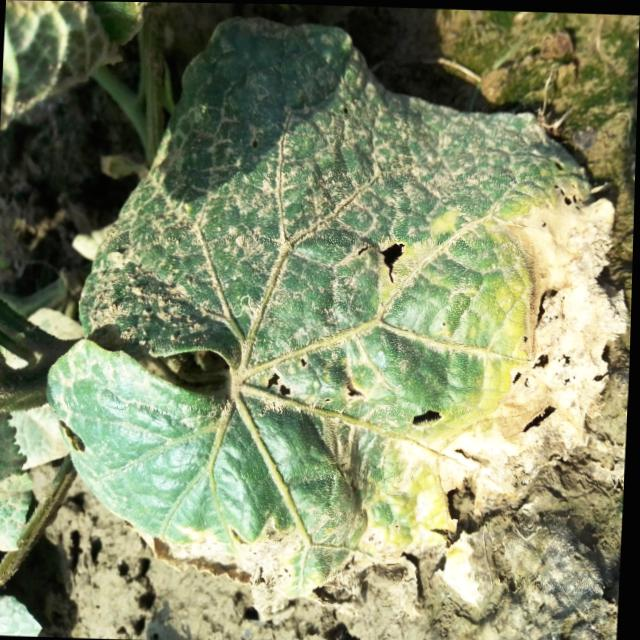Gummy-Stem-Blight: (436, 186, 628, 514), (134, 513, 424, 625)
